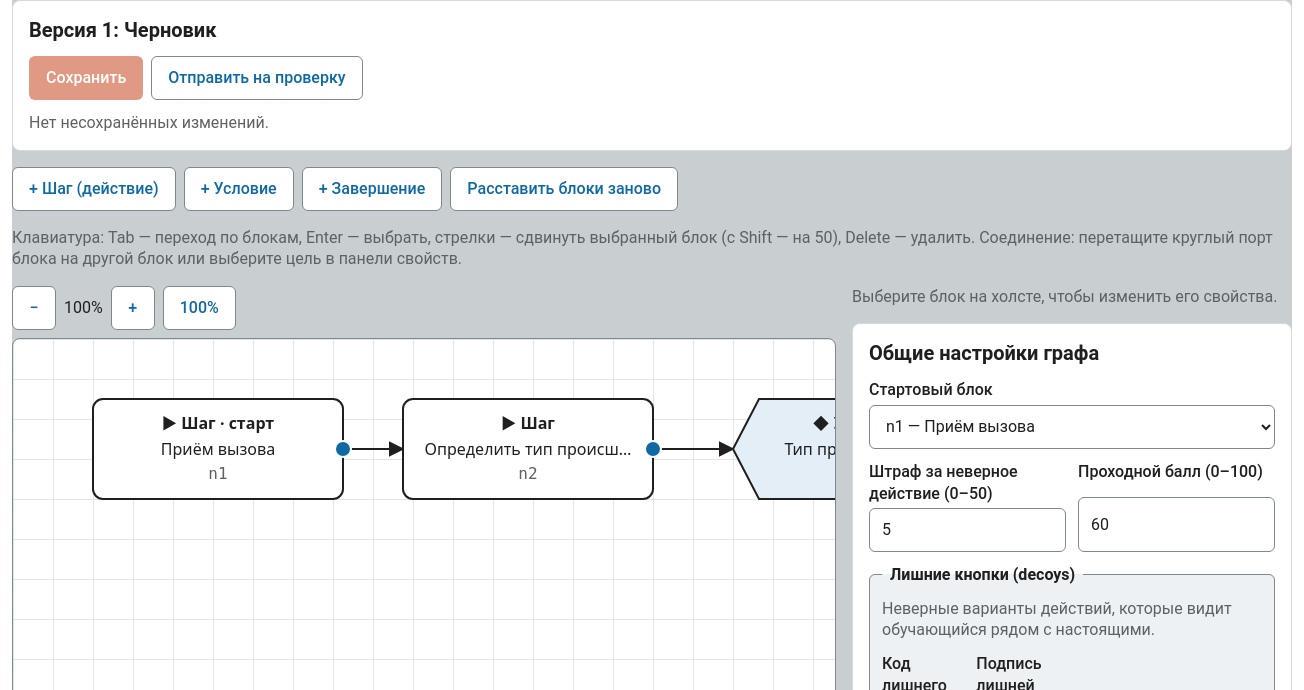
Scenario: ScenarioGraphEditor: процесс версий и права › черновик без правок отправляется на проверку; с правками сначала требуется сохранение
Click the button "+ Условие": [239, 189] box [184,167,294,211]
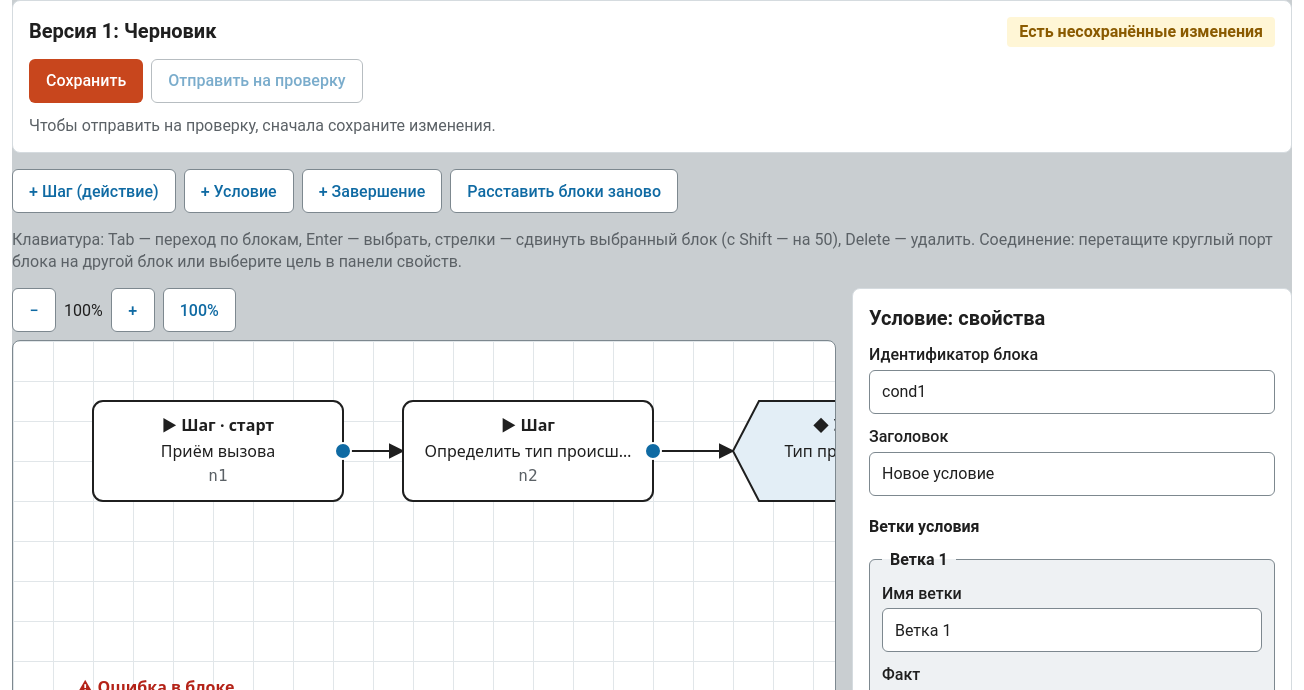
Expected: the button "Отправить на проверку" is disabled, [151,59,363,103]
Expected: the text "Чтобы отправить на проверку, сначала сохраните изменения." is shown, [29,116,496,135]
Click the button "Сохранить": [86, 81] box [29,59,143,103]
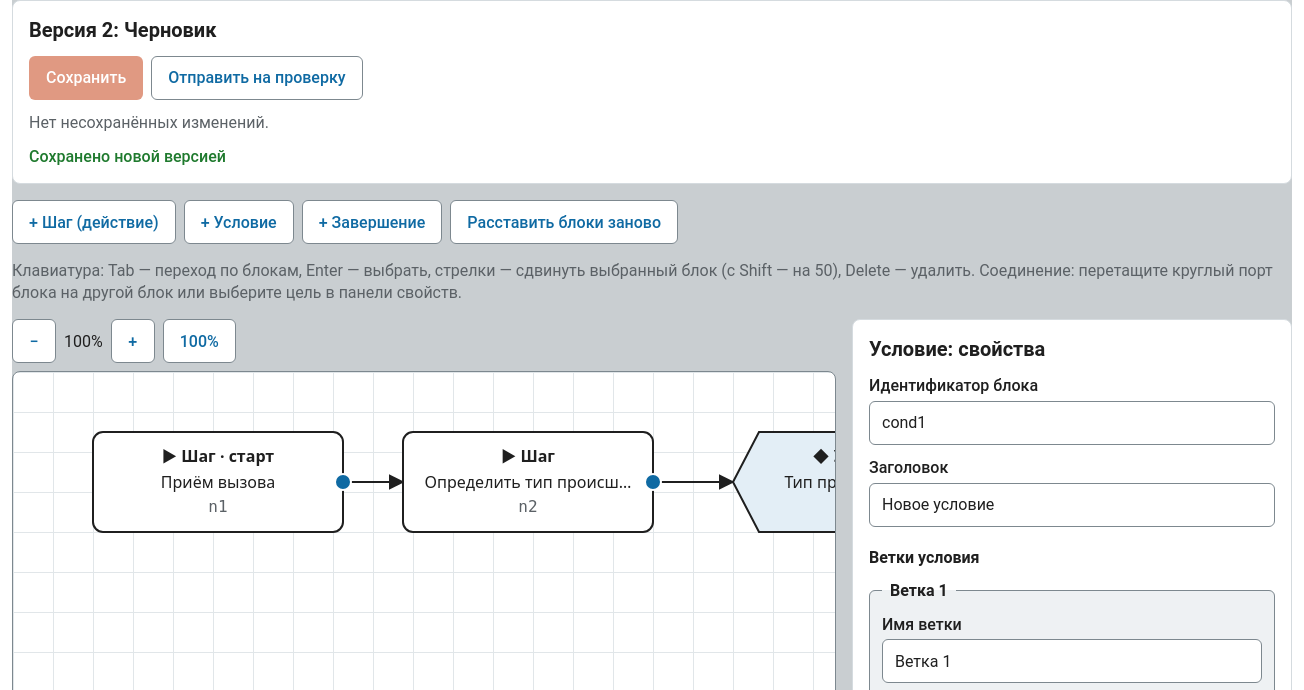
Expected: the text "Сохранено новой версией" is shown, [29,147,226,166]
Click the button "Отправить на проверку": [257, 78] box [151,56,363,100]
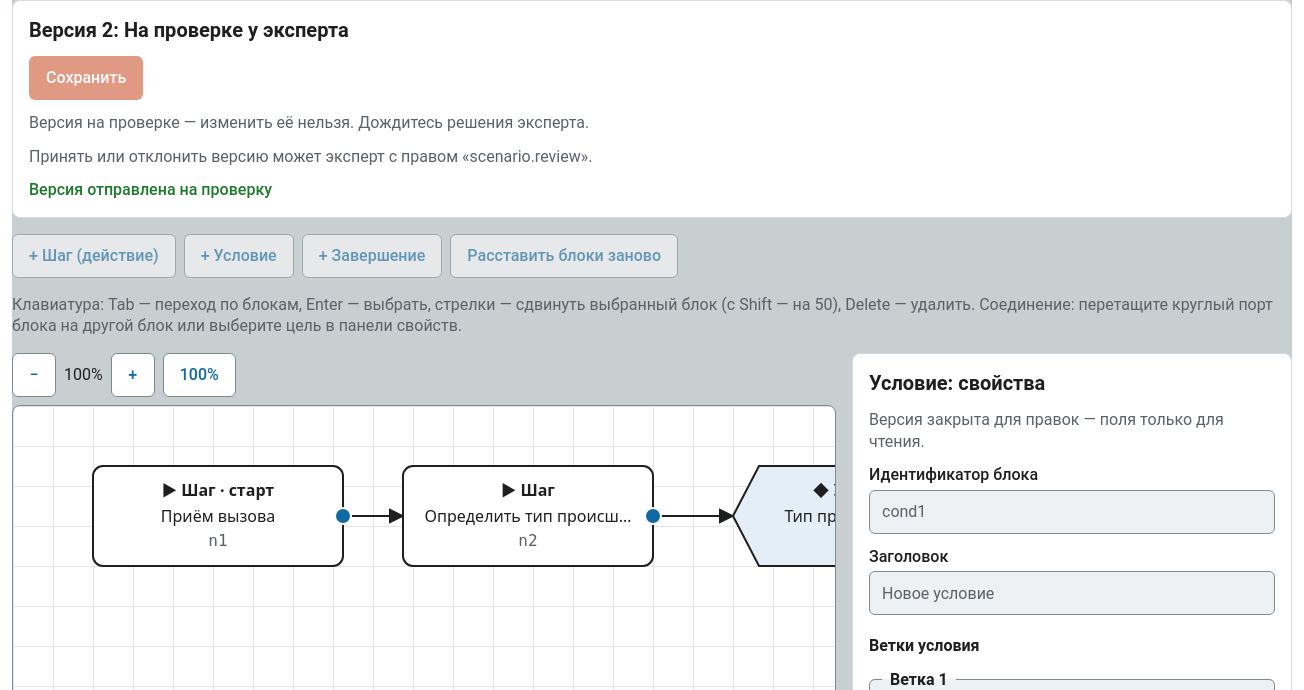
Expected: the text with test id "approval-status" reads "На проверке у эксперта", [124,18,349,42]
